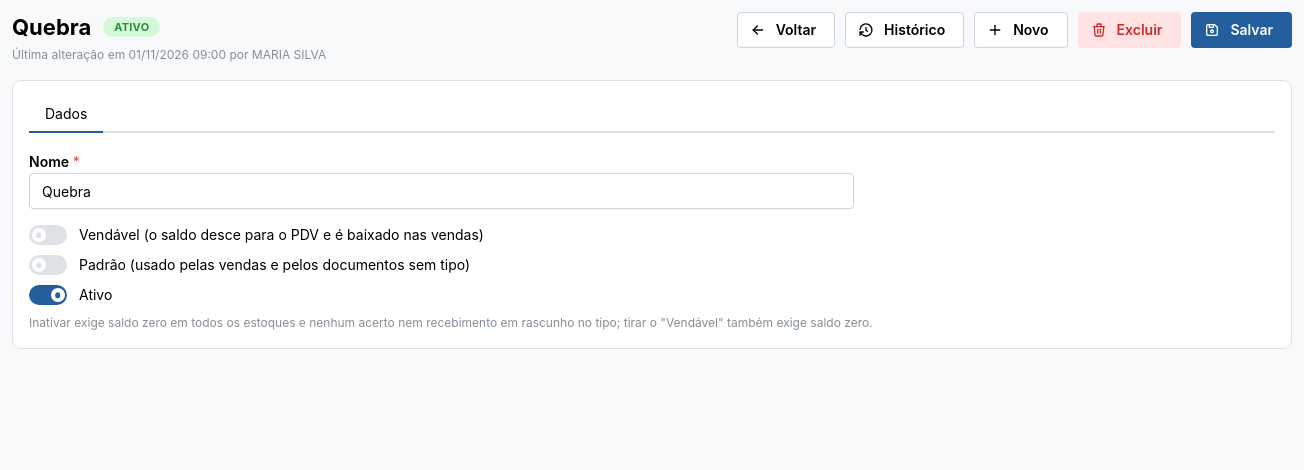
Test: <FormularioTipoEstoque> (ERP 13.6) › desmarcar o "Padrão" recém marcado devolve o vendável e o ativo de antes
The width and height of the screenshot is (1304, 470).
expect the field showing "Quebra" is shown: met, box [29, 173, 854, 209]
Click the switch labelled "Padrão (usado pelas vendas e pelos documentos sem tipo)": (250, 265) [29, 255, 470, 275]
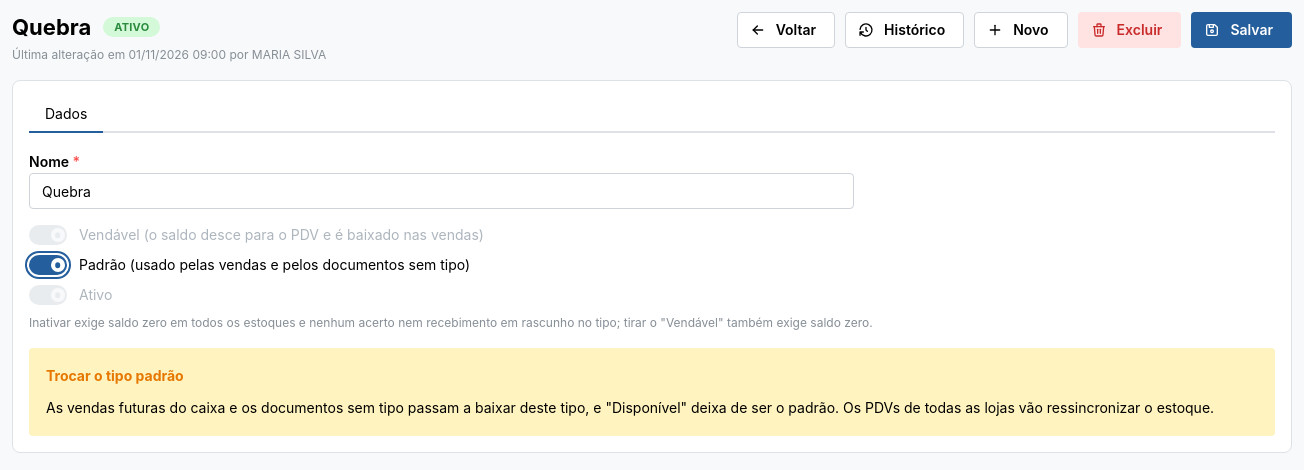
expect the switch labelled "Vendável (o saldo desce para o PDV e é baixado nas vendas)" is checked: met, box [29, 225, 484, 245]
Click the switch labelled "Padrão (usado pelas vendas e pelos documentos sem tipo)": (250, 265) [29, 255, 470, 275]
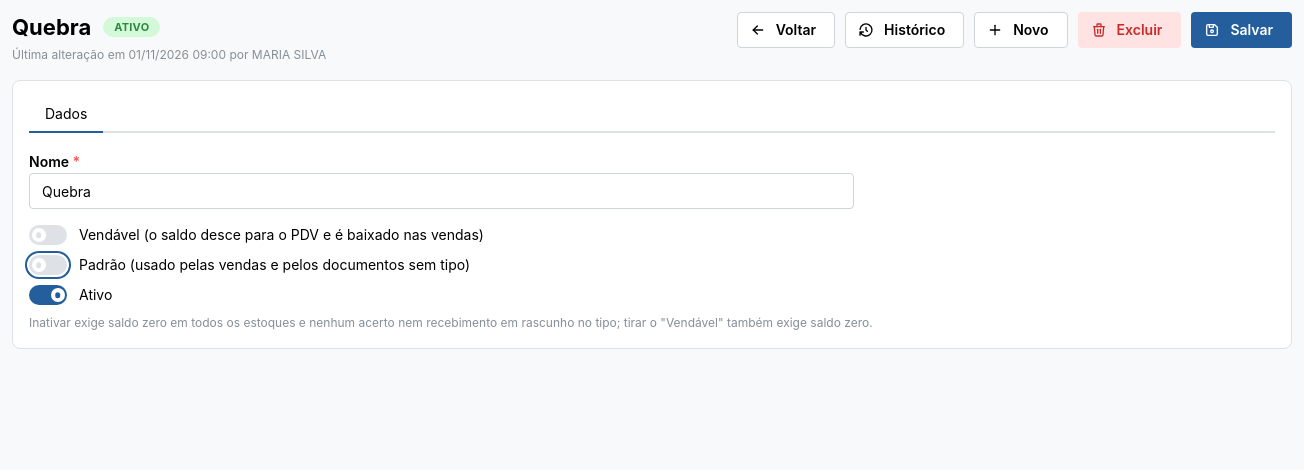
expect the switch labelled "Vendável (o saldo desce para o PDV e é baixado nas vendas)" is not checked: met, box [29, 225, 484, 245]
expect the switch labelled "Vendável (o saldo desce para o PDV e é baixado nas vendas)" is enabled: met, box [29, 225, 484, 245]
expect the text "Trocar o tipo padrão" is gone: met
